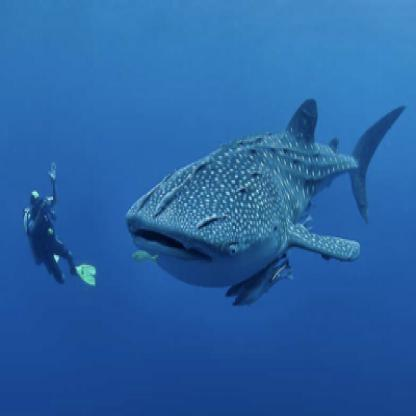Shark -Selachimorpha-: (120, 97, 407, 300)
